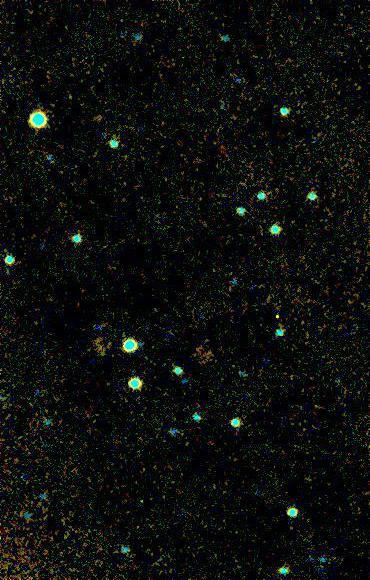star: (83, 103, 113, 133)
